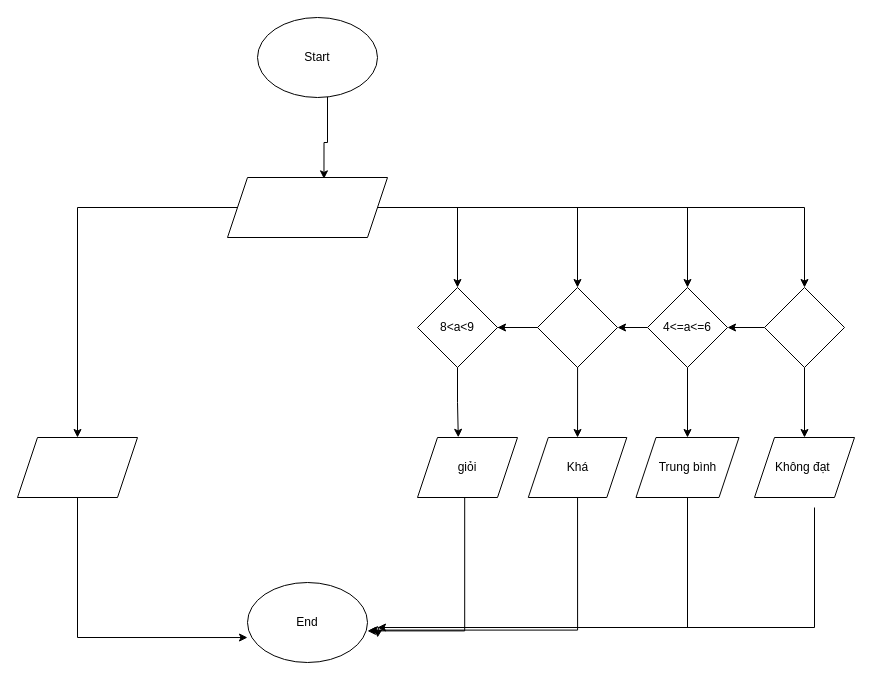
Image size: 872x680. Some labels were removed from this diagram. The shapes that lost their labels are listed below. From the top down, each one's box as (x1, y1, x2, y2) in pixels, then its label:
(226, 176, 388, 238): Input :Nhập điểm số a
(536, 286, 618, 368): 6<a<=8
(764, 286, 844, 368): a<4
(16, 436, 138, 498): Xuất sắc
